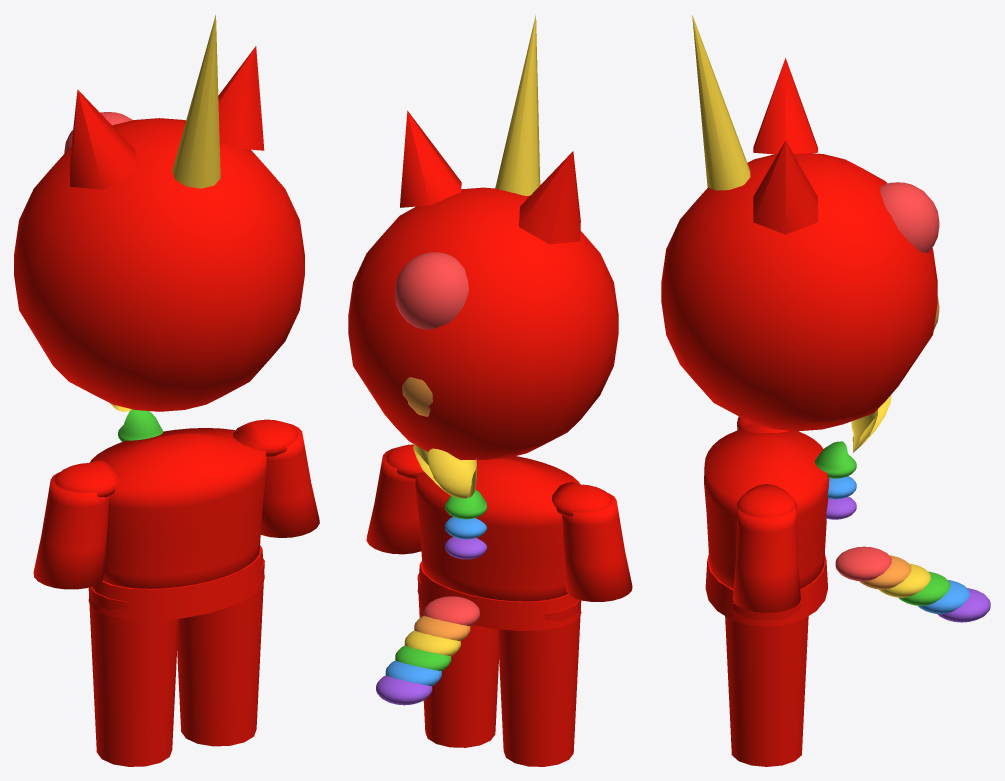
The model's file is suit_fun_1.glb.
The picture shows the model from 3 angles, left to right: view 1: azimuth 30°, elevation 25°; view 2: azimuth 150°, elevation 25°; view 3: azimuth 270°, elevation 25°; orthographic projection. The views are drawn at different scales.
Bounding box in the file's own units: 0.6992 × 1.82 × 0.7565.
